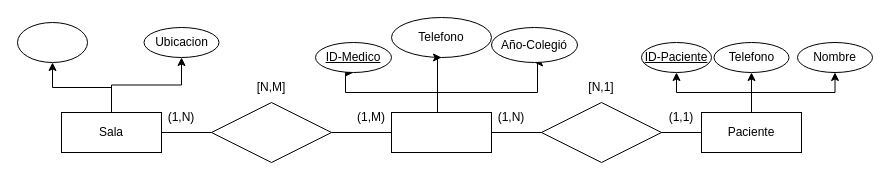
Some shapes in this 890 by 180 pixel diagram are drawn without their labels. The shapes that lost their labels are listed below. From the top down, each one's box as (x1, y1, x2, y2) in pixels, then its label:
(16, 22, 88, 62): ID-Sala
(210, 102, 332, 162): Horario
(390, 112, 492, 152): Medico
(540, 102, 662, 162): Atiende
